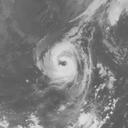cyclone: (35, 35, 92, 90)
